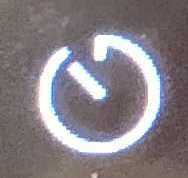timer: (7, 11, 182, 165)
